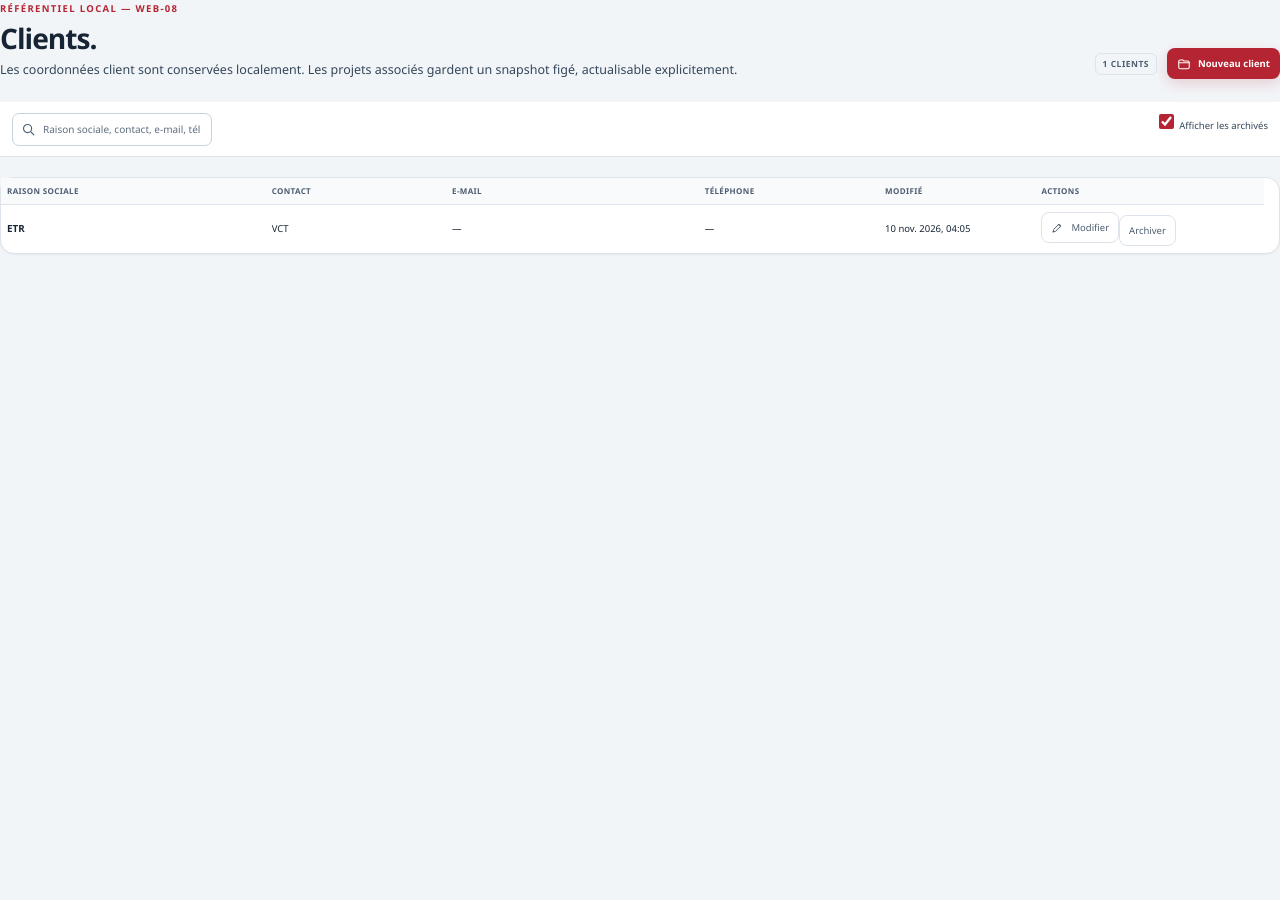
Test: ClientsScreen › filtre la liste et propose l’édition
The width and height of the screenshot is (1280, 900).
Expected: the text "ETR" is shown, [7,222,25,235]
Type "absent" into the field with test id "client-search" at x=122, y=129, box [41,121,203,138]
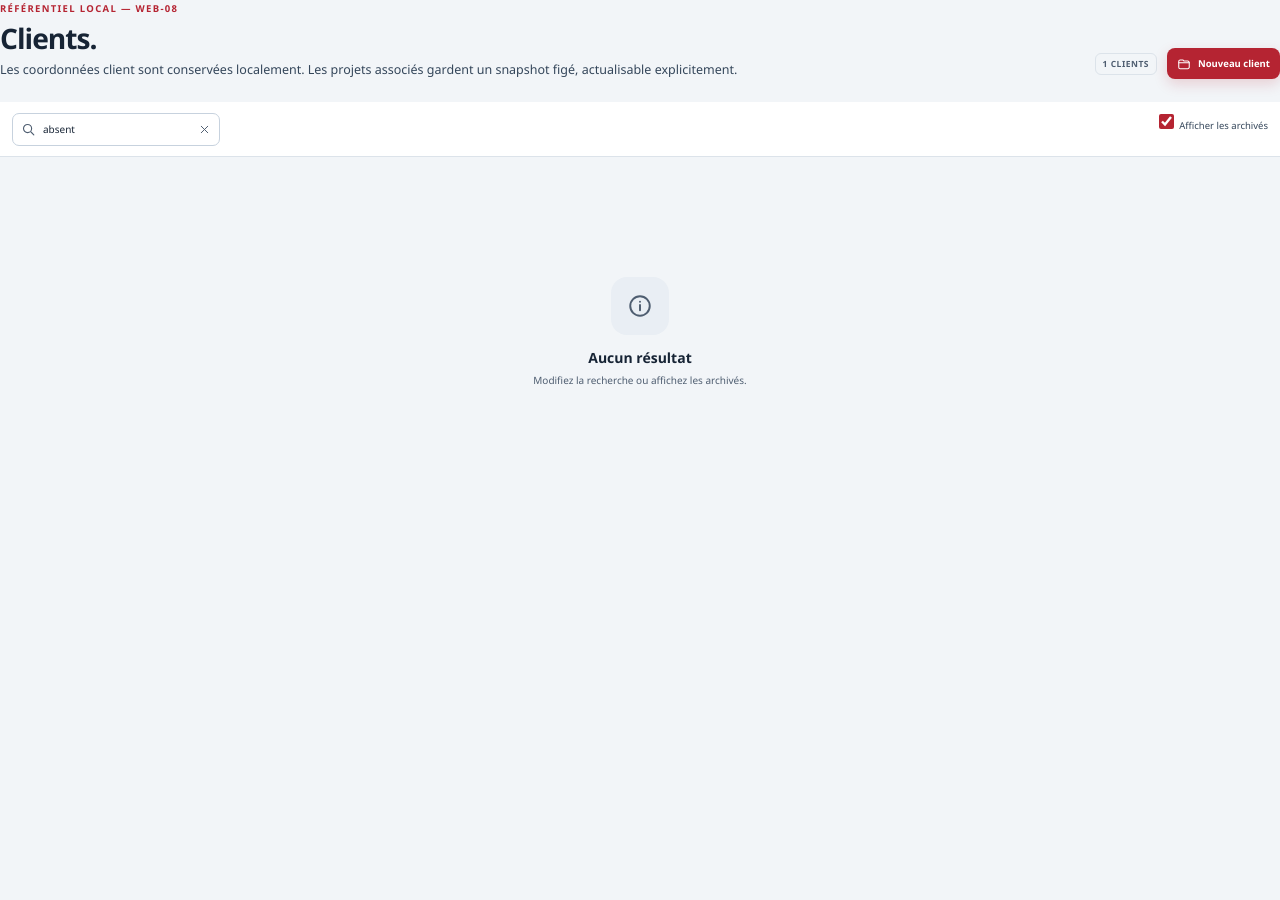
Now the heading "Aucun résultat" is shown, box [588,348,692,368]
Replace the text in the field with test id "client-search" with "ETR" at x=117, y=129, box [41,121,193,138]
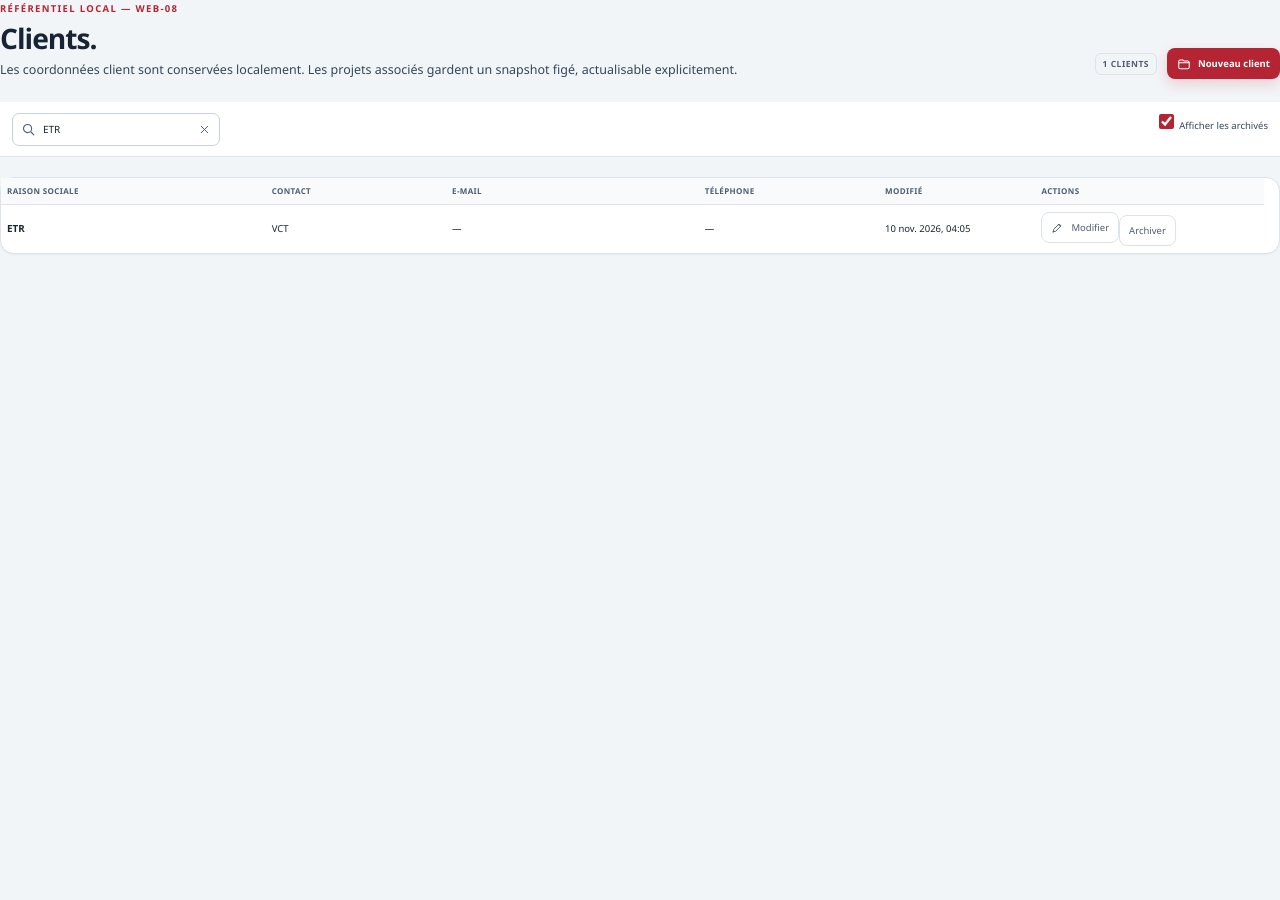
Now the text "ETR" is shown, box [7,222,25,235]
Click the button "Modifier" at x=1080, y=228, box [1041,212,1119,243]
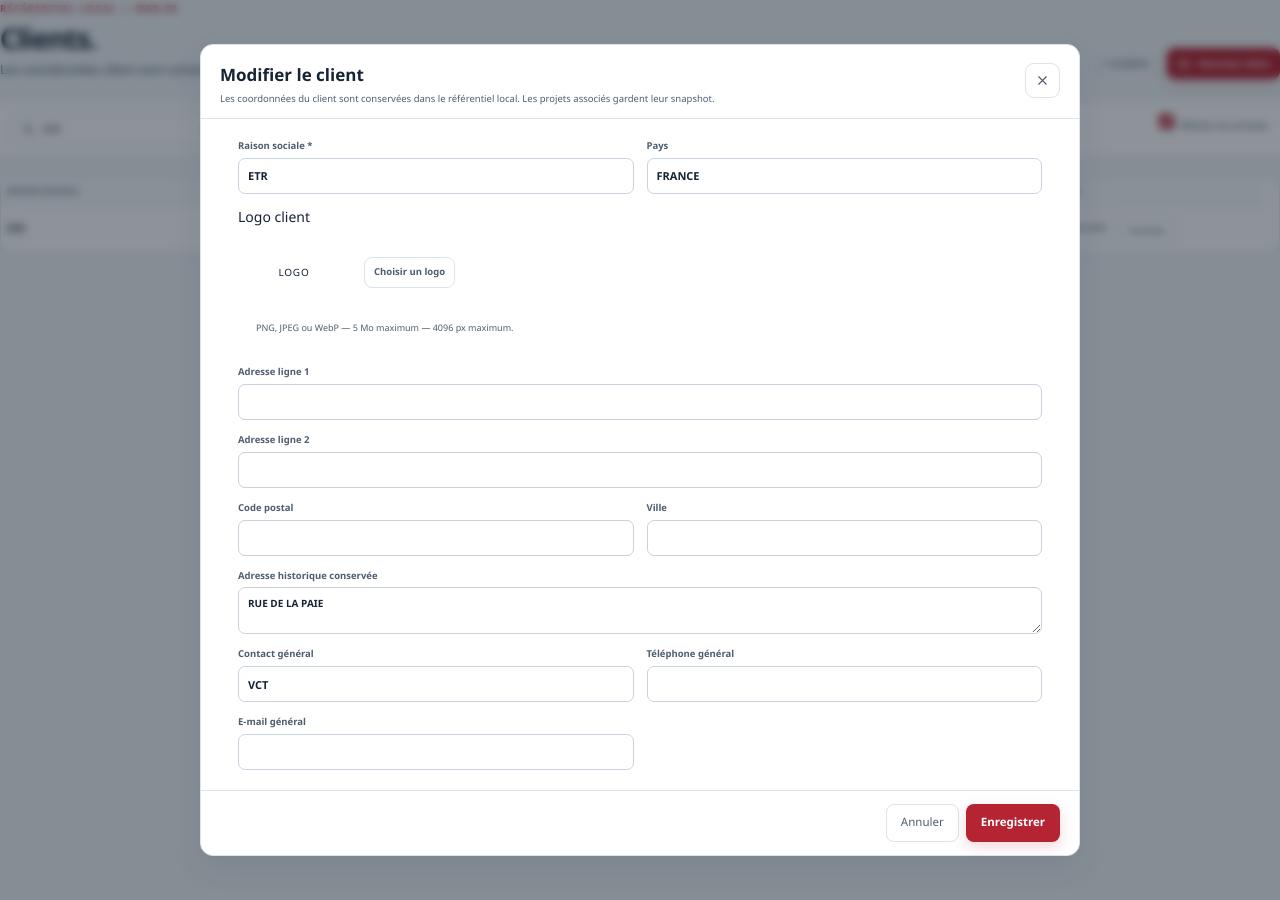
Now the dialog with test id "client-dialog" is shown
